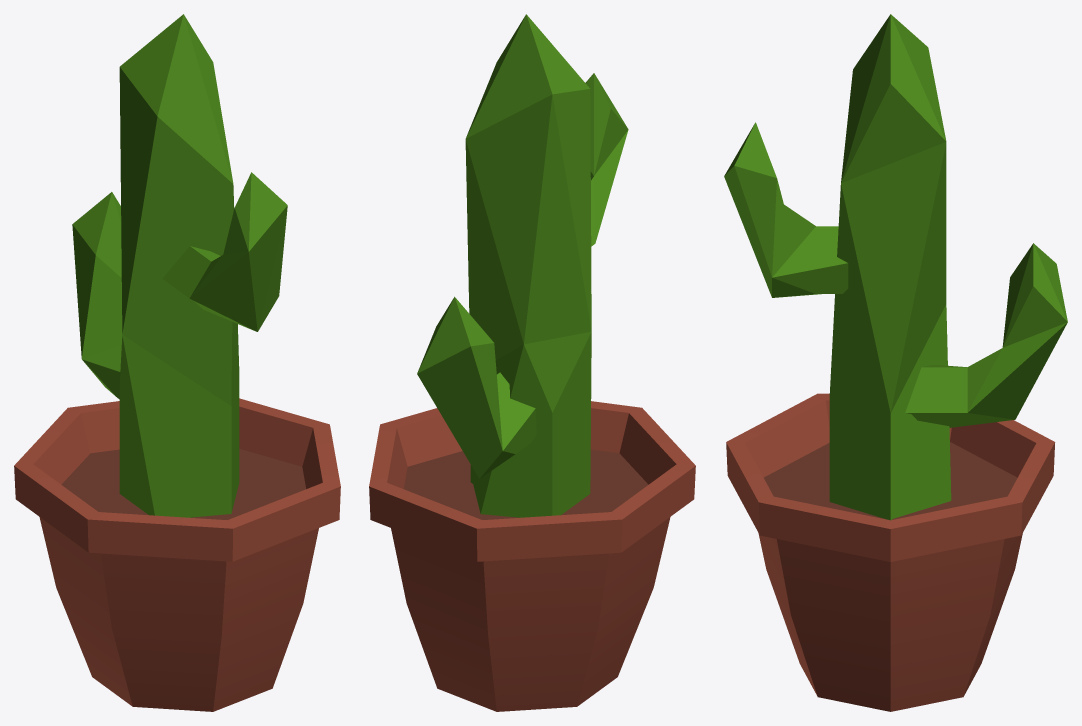
Rendered from Desk_Cactus.fbx.
The picture shows the model from 3 angles, left to right: view 1: azimuth 30°, elevation 25°; view 2: azimuth 150°, elevation 25°; view 3: azimuth 270°, elevation 25°; orthographic projection.
Parts seen in each view (by area): view 1: Cactus; view 2: Cactus; view 3: Cactus.
Part boxes in pixels (box(x1,y1,x2,y2)): Cactus: box(14, 14, 340, 711); Cactus: box(369, 14, 695, 711); Cactus: box(724, 14, 1067, 711).
Bounding box in the file's own units: 15.02 × 33.98 × 16.1.
